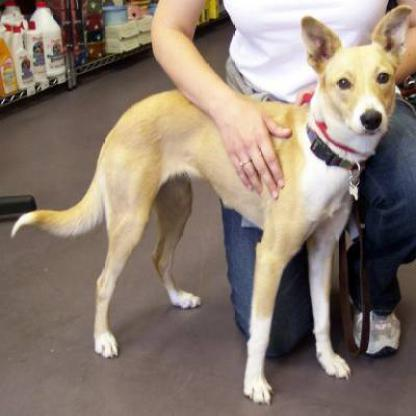dog: (30, 13, 395, 355)
